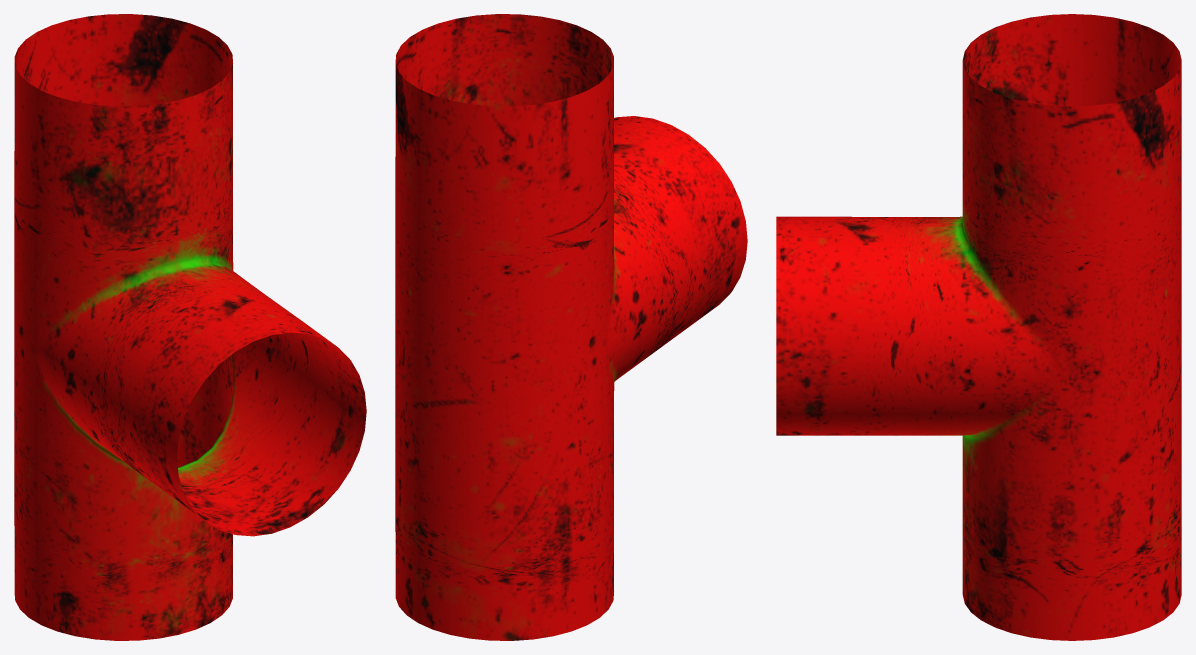
The model's file is SM_IronPipe_branch_01.fbx.
3 renders of one model, left to right at view 1: azimuth 30°, elevation 25°; view 2: azimuth 150°, elevation 25°; view 3: azimuth 270°, elevation 25°, orthographic.
Visible parts, largest first — view 1: SM_IronPipe_branch_01_LOD0; view 2: SM_IronPipe_branch_01_LOD0; view 3: SM_IronPipe_branch_01_LOD0.
Part boxes in pixels (box(x1,y1,x2,y2)): SM_IronPipe_branch_01_LOD0: box(14, 14, 366, 640); SM_IronPipe_branch_01_LOD0: box(395, 14, 747, 640); SM_IronPipe_branch_01_LOD0: box(776, 14, 1181, 640).
Bounding box in the file's own units: 15.08 × 27.49 × 39.99.
